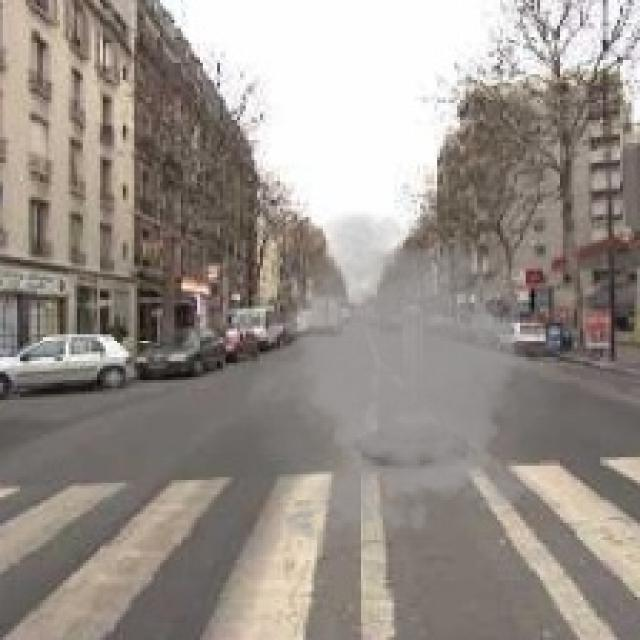Smoke: (232, 206, 577, 552)
